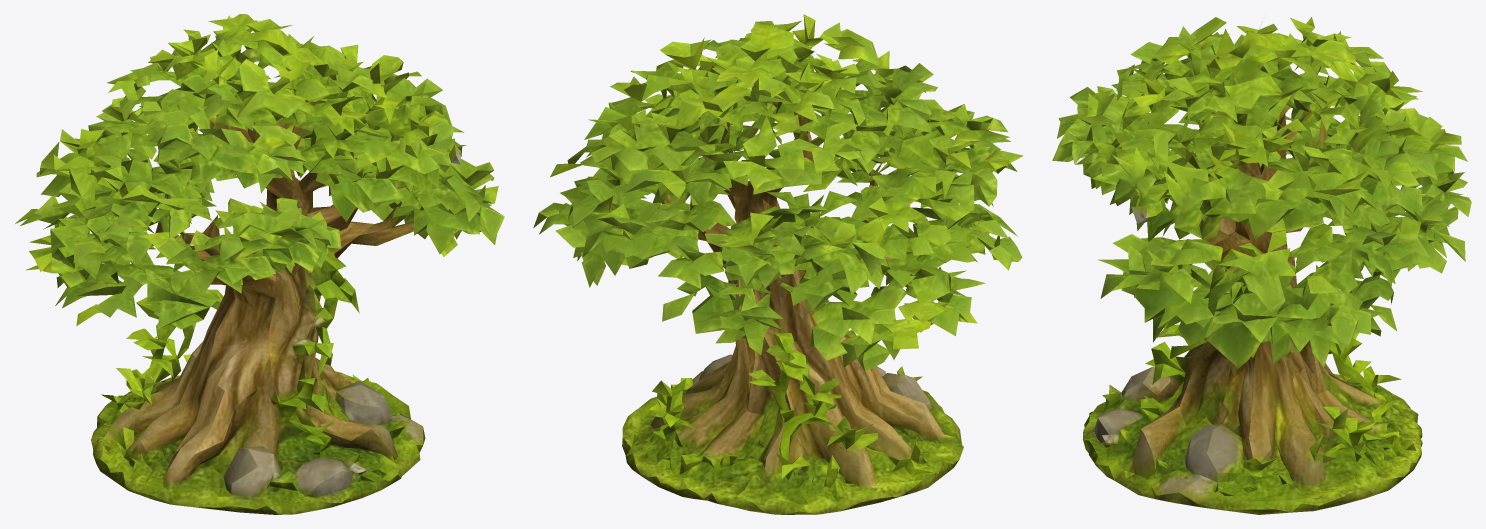
Rendered from tree.glb.
The picture shows the model from 3 angles, left to right: view 1: azimuth 30°, elevation 25°; view 2: azimuth 150°, elevation 25°; view 3: azimuth 270°, elevation 25°; orthographic projection.
Visible parts, largest first — view 1: geometry_0; view 2: geometry_0; view 3: geometry_0.
Boxes of the visible parts, bbox=[...] form: geometry_0: bbox=[15, 14, 504, 514]; geometry_0: bbox=[533, 14, 1023, 514]; geometry_0: bbox=[1052, 17, 1471, 514].
Bounding box in the file's own units: 0.3685 × 0.35 × 0.3187.
1 material, 1 textured.
